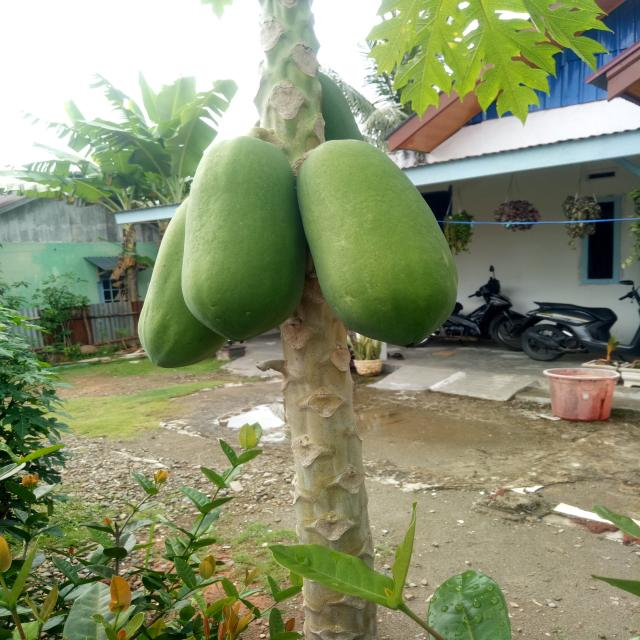Pepaya unrippen: (295, 141, 460, 341), (176, 141, 312, 342), (130, 208, 227, 366)
